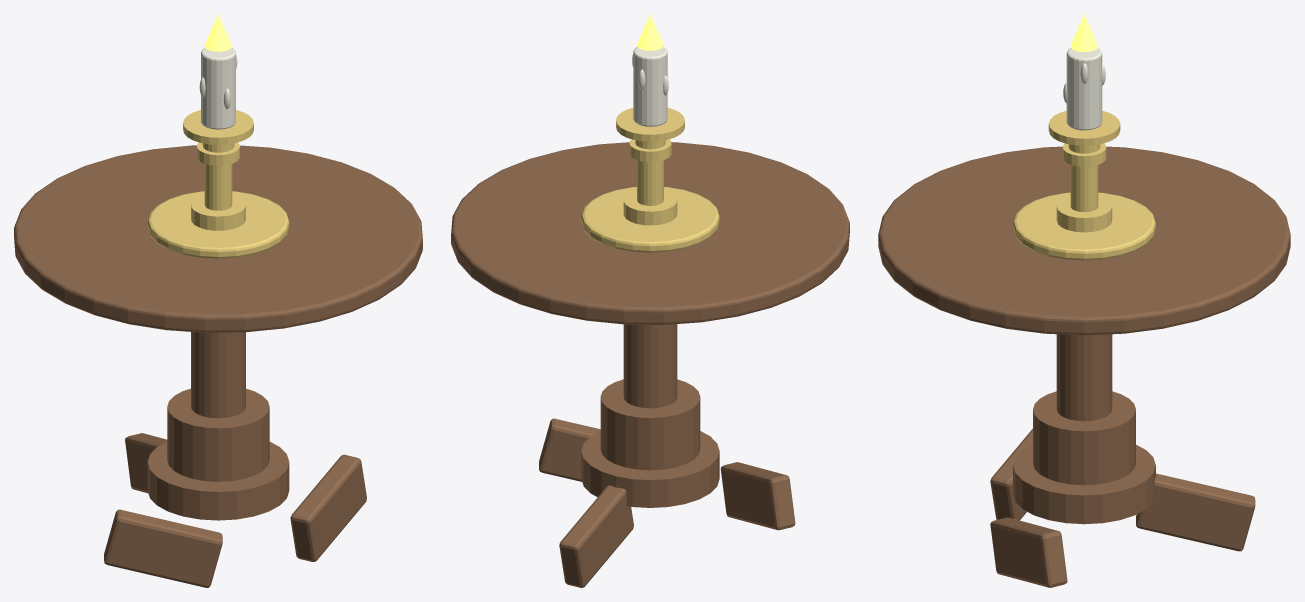
Rendered from candlestick.glb.
The picture shows the model from 3 angles, left to right: view 1: azimuth 30°, elevation 25°; view 2: azimuth 150°, elevation 25°; view 3: azimuth 270°, elevation 25°; orthographic projection. The views are drawn at different scales.
Visible parts, largest first — view 1: TableTop, TablePedestal_0.28, TablePedestal_0.16, TableLeg_2, CandleBasePlate, TableLeg_1, TablePedestal_0.52, CandleWax, CandleDripPan, CandleStem_0.05, TableLeg_0, CandleStem_0.14 (+2 smaller); view 2: TableTop, TablePedestal_0.28, TablePedestal_0.16, CandleBasePlate, TablePedestal_0.52, TableLeg_0, TableLeg_2, CandleWax, TableLeg_1, CandleDripPan, CandleStem_0.05, CandleStem_0.14 (+2 smaller); view 3: TableTop, TablePedestal_0.28, TablePedestal_0.16, TableLeg_0, CandleBasePlate, TablePedestal_0.52, TableLeg_1, CandleWax, CandleDripPan, TableLeg_2, CandleStem_0.05, CandleStem_0.14 (+2 smaller).
Part boxes in pixels (bbox=[...]): TableTop: bbox=[14, 145, 422, 332]; TablePedestal_0.28: bbox=[167, 388, 269, 481]; TablePedestal_0.16: bbox=[147, 442, 289, 520]; TableLeg_2: bbox=[104, 509, 222, 587]; CandleBasePlate: bbox=[147, 191, 289, 258]; TableLeg_1: bbox=[290, 454, 366, 561]; TablePedestal_0.52: bbox=[191, 332, 245, 418]; CandleWax: bbox=[201, 47, 235, 129]; CandleDripPan: bbox=[183, 110, 253, 144]; CandleStem_0.05: bbox=[191, 195, 245, 230]; TableLeg_0: bbox=[125, 433, 167, 493]; CandleStem_0.14: bbox=[204, 164, 232, 210]; TableTop: bbox=[451, 142, 849, 324]; TablePedestal_0.28: bbox=[600, 379, 700, 470]; TablePedestal_0.16: bbox=[581, 431, 719, 507]; CandleBasePlate: bbox=[581, 187, 719, 252]; TablePedestal_0.52: bbox=[623, 324, 677, 408]; TableLeg_0: bbox=[559, 485, 633, 587]; TableLeg_2: bbox=[720, 462, 795, 530]; CandleWax: bbox=[633, 47, 667, 126]; TableLeg_1: bbox=[539, 418, 600, 481]; CandleDripPan: bbox=[616, 107, 684, 141]; CandleStem_0.05: bbox=[623, 190, 677, 225]; CandleStem_0.14: bbox=[637, 160, 663, 205]; TableTop: bbox=[878, 146, 1290, 335]; TablePedestal_0.28: bbox=[1033, 391, 1135, 485]; TablePedestal_0.16: bbox=[1013, 444, 1155, 524]; TableLeg_0: bbox=[1136, 473, 1255, 551]; CandleBasePlate: bbox=[1013, 192, 1155, 260]; TablePedestal_0.52: bbox=[1056, 334, 1112, 421]; TableLeg_1: bbox=[990, 517, 1067, 587]; CandleWax: bbox=[1066, 48, 1102, 130]; CandleDripPan: bbox=[1048, 110, 1120, 145]; TableLeg_2: bbox=[990, 428, 1032, 520]; CandleStem_0.05: bbox=[1056, 196, 1112, 232]; CandleStem_0.14: bbox=[1070, 165, 1098, 212].
Size of the model in its own units: 1.04 by 1.48 by 1.04.
